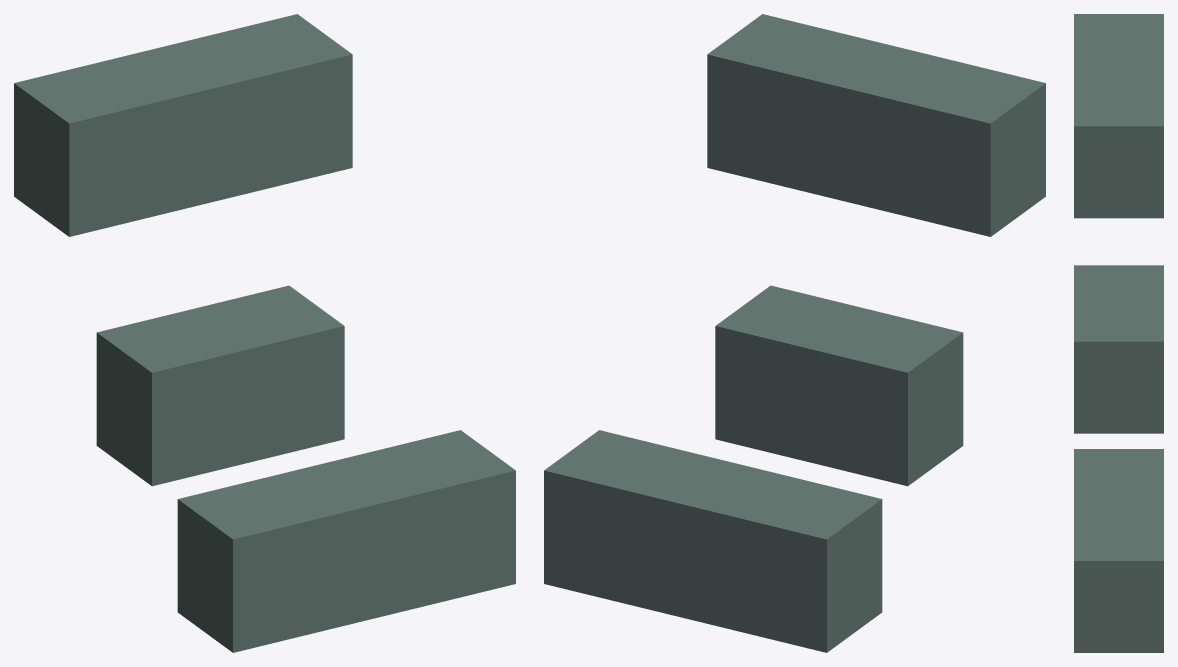
File: BrickDetails3.fbx
3 renders of one model, left to right at view 1: azimuth 30°, elevation 25°; view 2: azimuth 150°, elevation 25°; view 3: azimuth 270°, elevation 25°, orthographic. The views are drawn at different scales.
Parts seen in each view (by area): view 1: BrickDetails3; view 2: BrickDetails3; view 3: BrickDetails3.
Boxes of the visible parts, x1,y1,x2,y2 form: BrickDetails3: [14, 14, 515, 652]; BrickDetails3: [544, 14, 1045, 652]; BrickDetails3: [1074, 14, 1163, 652].
Bounding box in the file's own units: 54.6 × 66.5 × 11.7.
